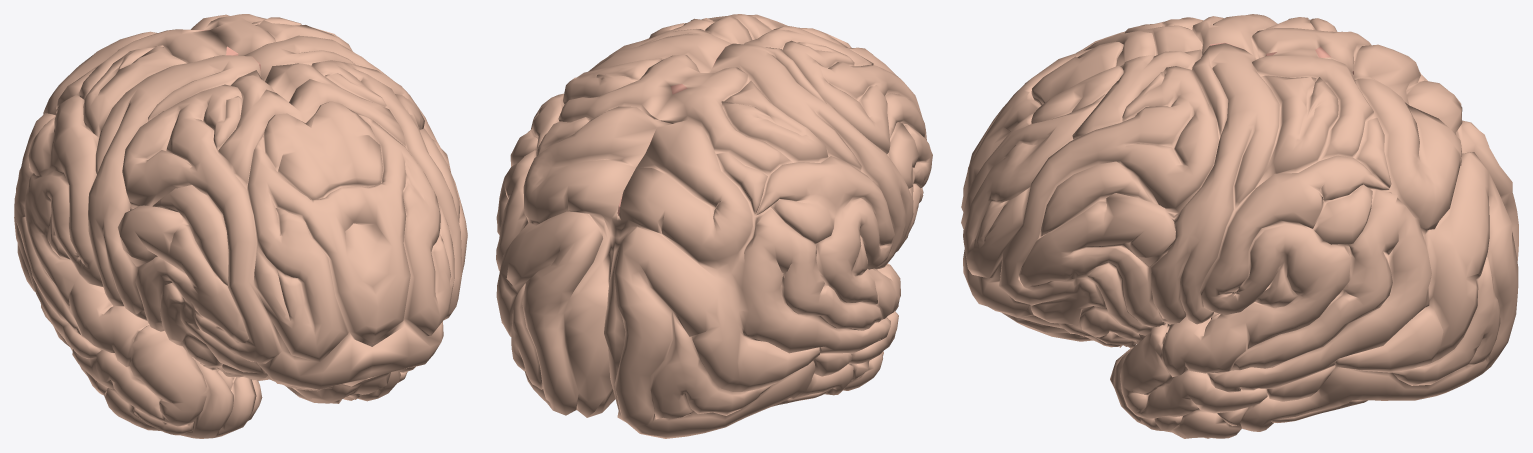
File: Brain.gltf
3 renders of one model, left to right at view 1: azimuth 30°, elevation 25°; view 2: azimuth 150°, elevation 25°; view 3: azimuth 270°, elevation 25°, orthographic. The views are drawn at different scales.
Visible parts, largest first — view 1: Brain.001; view 2: Brain.001; view 3: Brain.001.
Boxes of the visible parts, x1,y1,x2,y2 form: Brain.001: [14, 14, 467, 438]; Brain.001: [496, 14, 932, 438]; Brain.001: [961, 14, 1518, 438].
Bounding box in the file's own units: 1.27 × 1.15 × 1.69.
